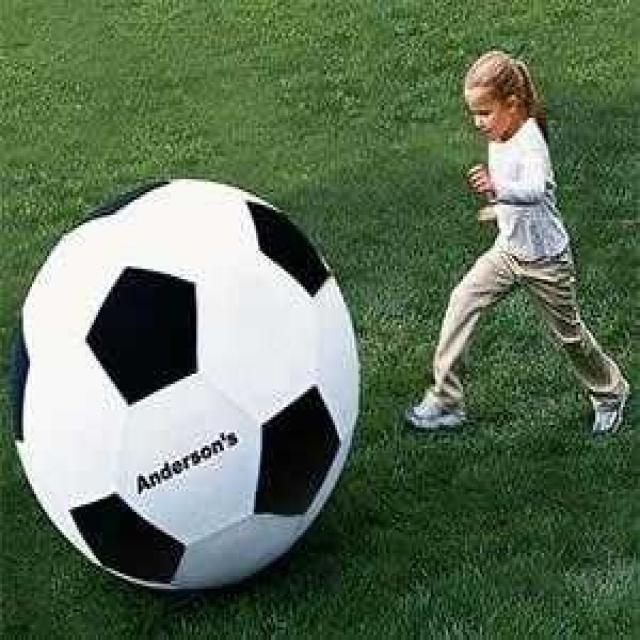ball: (14, 177, 361, 593)
